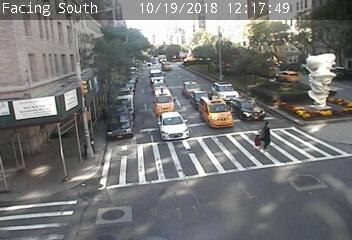car: (199, 93, 235, 129), (158, 112, 191, 140), (233, 98, 267, 121), (154, 87, 174, 116), (211, 81, 241, 100), (182, 81, 201, 97)
